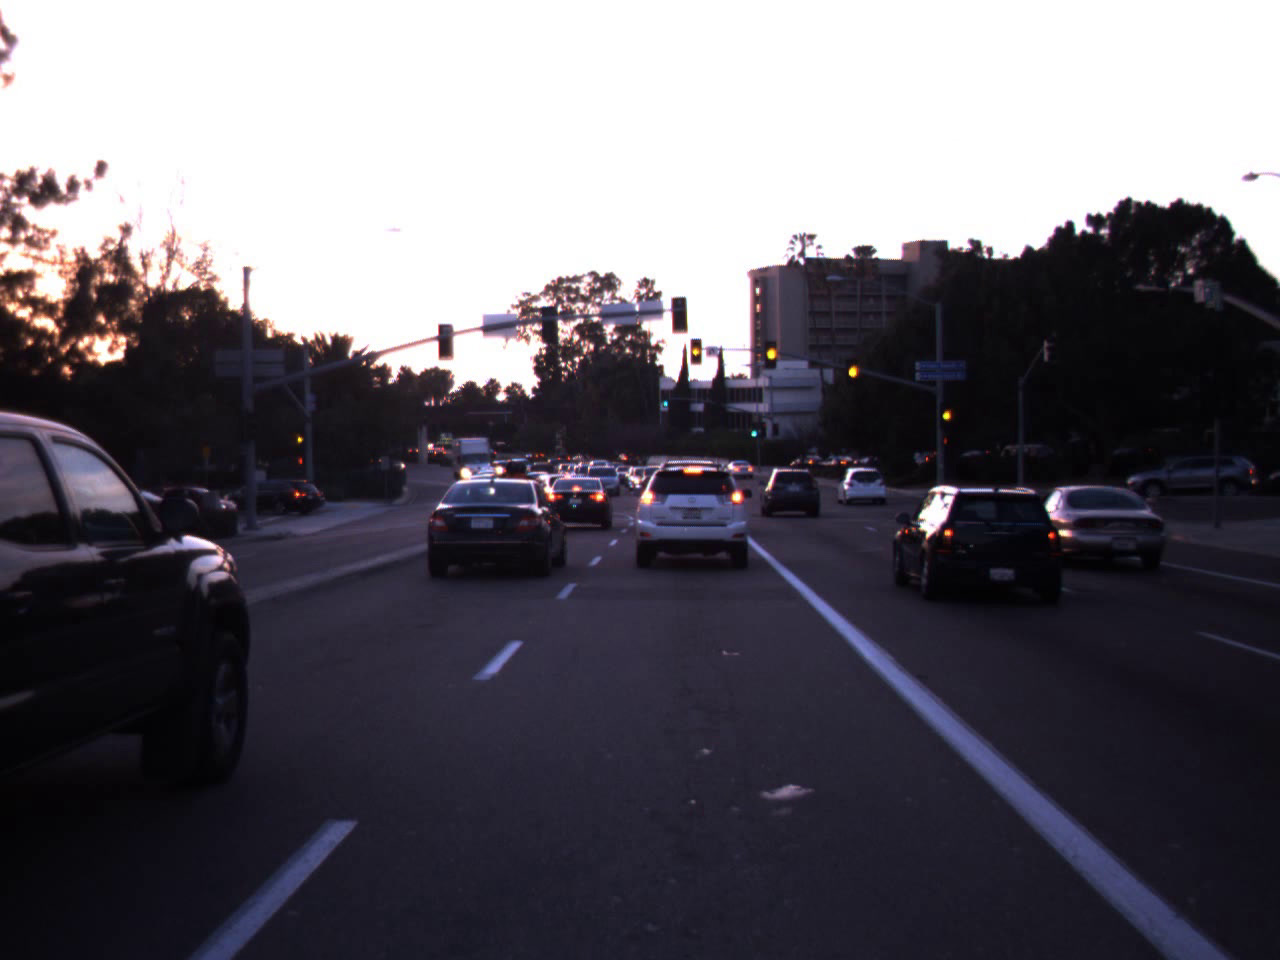go: (659, 388, 671, 408), (748, 418, 760, 438)
warning: (680, 326, 713, 371), (761, 332, 782, 372), (844, 347, 862, 392), (938, 398, 956, 429), (294, 427, 306, 449)
